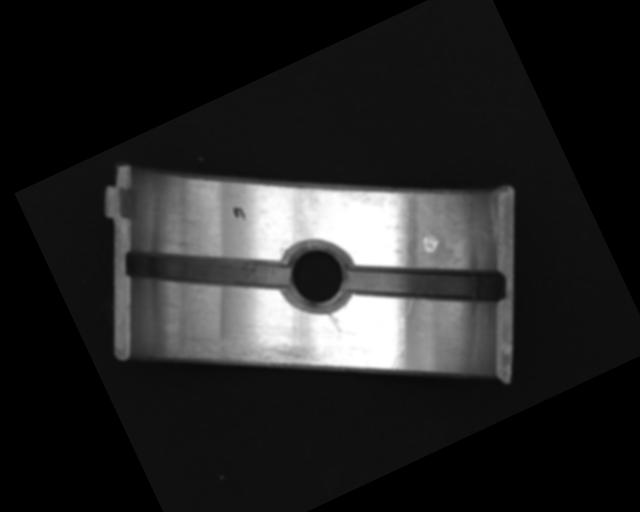blot: (230, 202, 248, 223)
bruise: (419, 230, 442, 255)
gap: (120, 196, 293, 343), (346, 216, 509, 351)
hole: (266, 228, 363, 322)
nick: (372, 314, 423, 373), (327, 309, 343, 334)
scratch: (169, 300, 319, 420)
